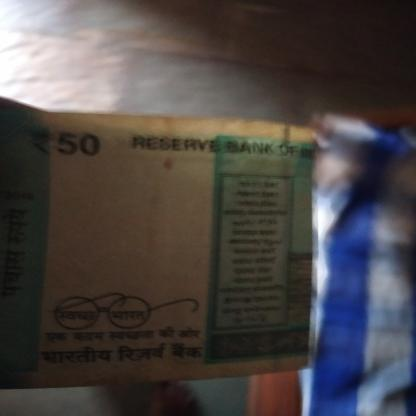New50Back: (0, 121, 313, 379)
